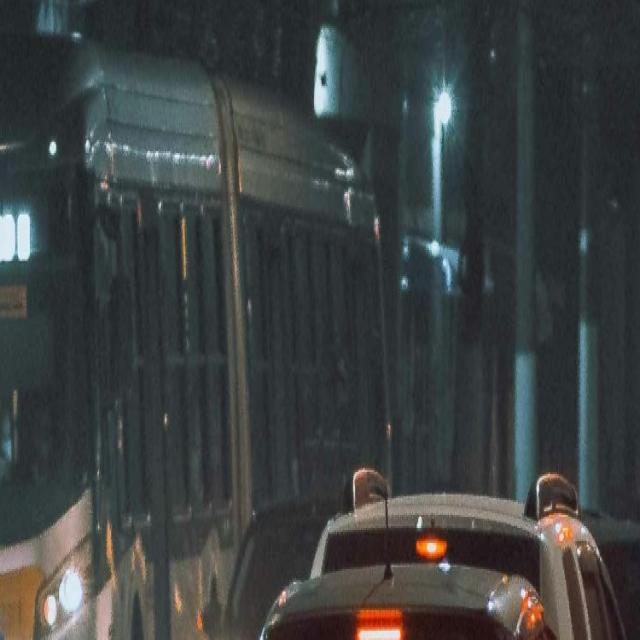bus: (0, 37, 396, 640)
car: (189, 561, 638, 640)
motorbike: (0, 532, 74, 640)
